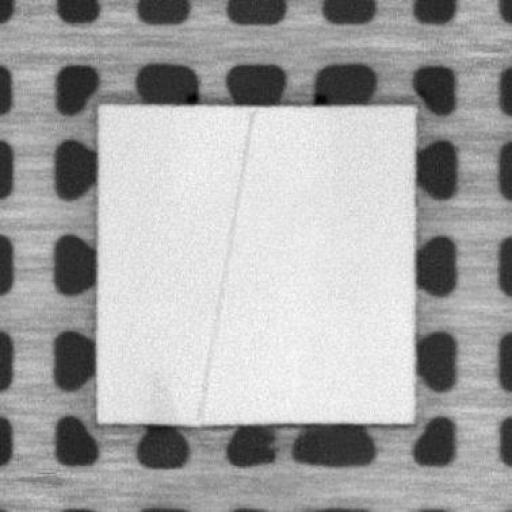DIE_CRACK: (195, 111, 253, 420)
